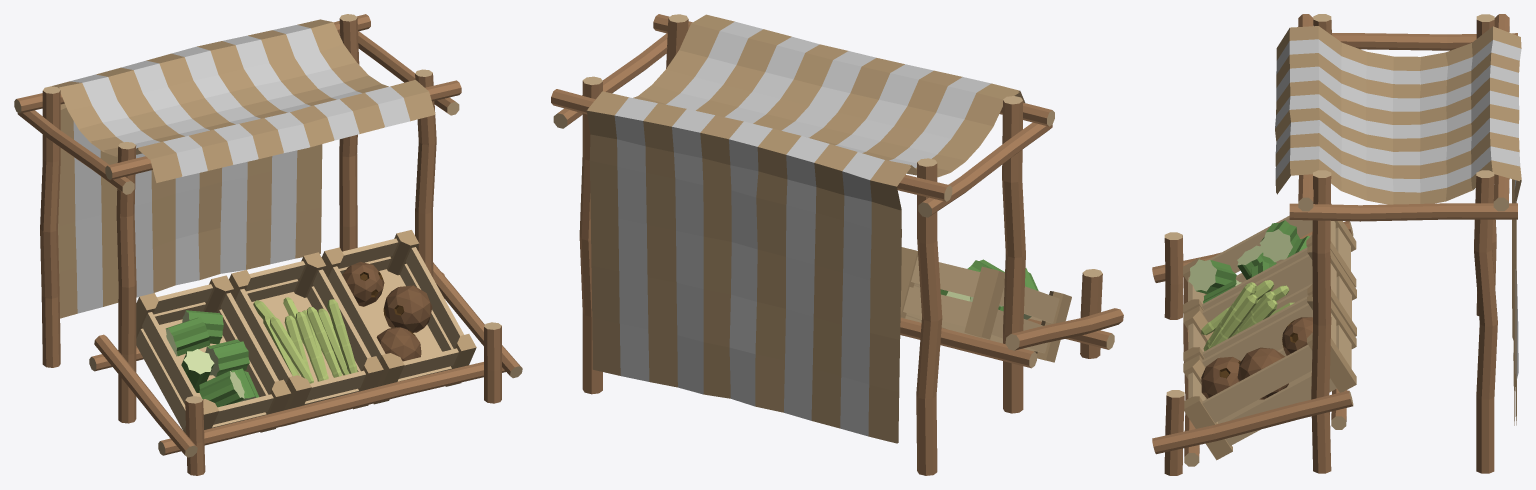
The model's file is Stall05.fbx.
The picture shows the model from 3 angles, left to right: view 1: azimuth 30°, elevation 25°; view 2: azimuth 150°, elevation 25°; view 3: azimuth 270°, elevation 25°; orthographic projection. The views are drawn at different scales.
Visible parts, largest first — view 1: Stall05; view 2: Stall05; view 3: Stall05.
Boxes of the visible parts, bbox=[...] form: Stall05: bbox=[14, 14, 522, 475]; Stall05: bbox=[551, 14, 1123, 475]; Stall05: bbox=[1152, 14, 1521, 475].
Bounding box in the file's own units: 4 × 3.02 × 3.4.
